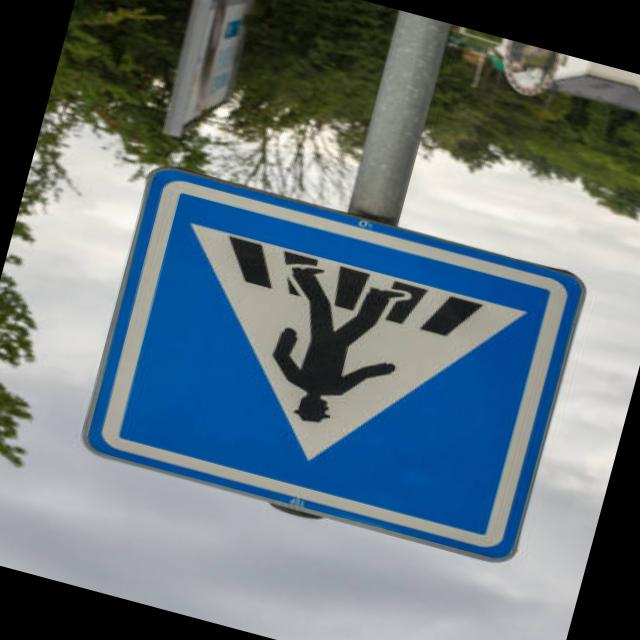crosswalk: (51, 147, 606, 582)
